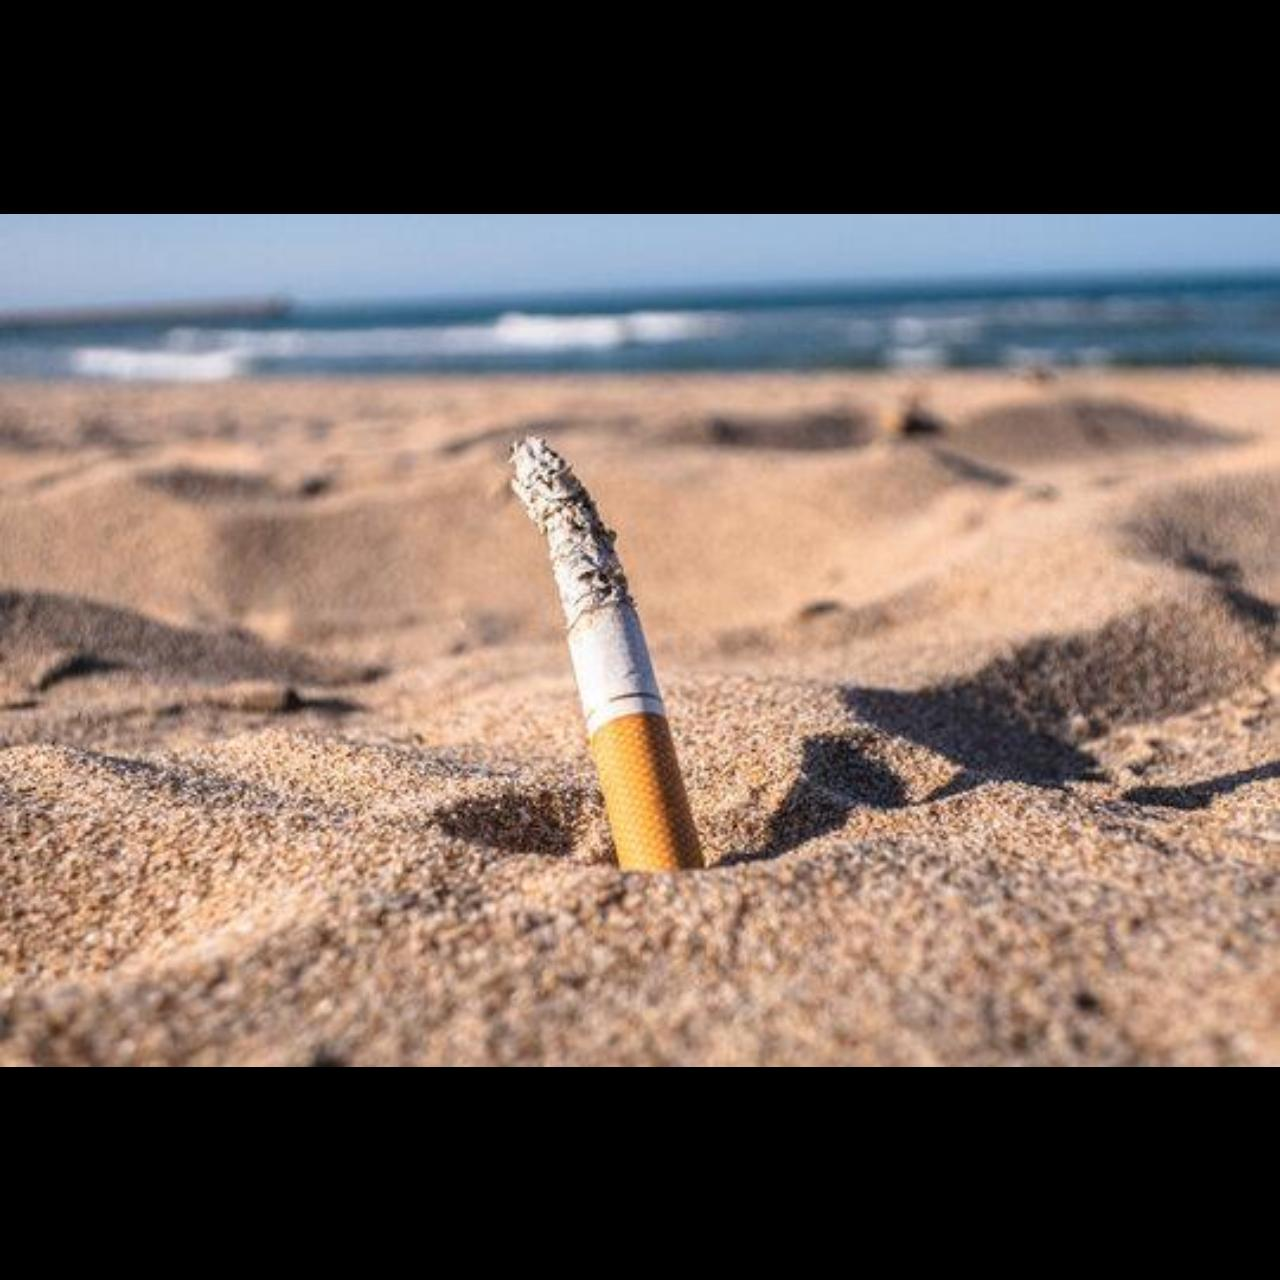cigarettes_butts: (512, 436, 706, 872)
